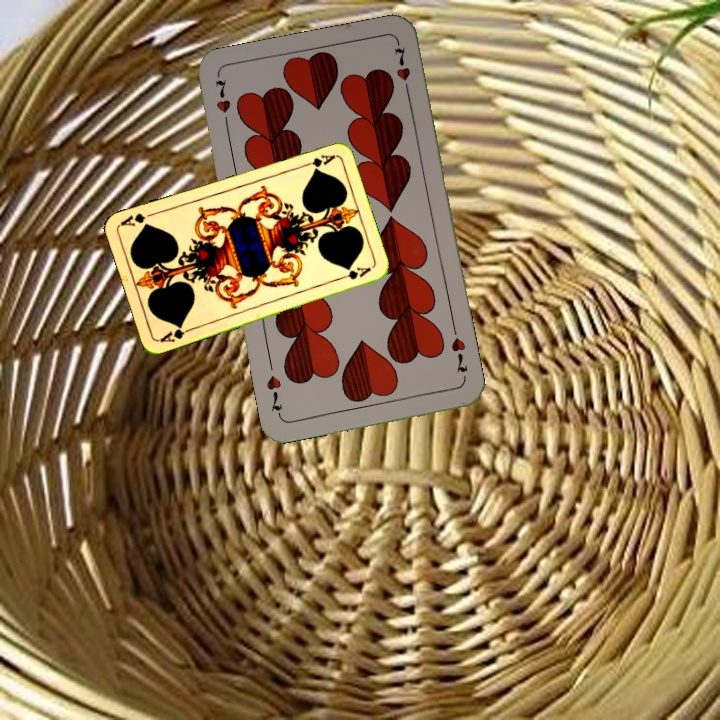GA: (156, 321, 195, 345), (297, 150, 337, 170)
H7: (211, 75, 233, 132), (447, 334, 471, 376)
